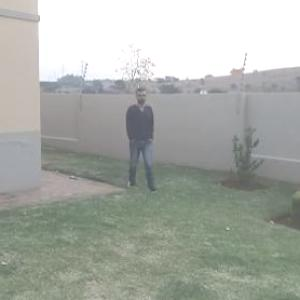follow: (121, 84, 157, 192)
